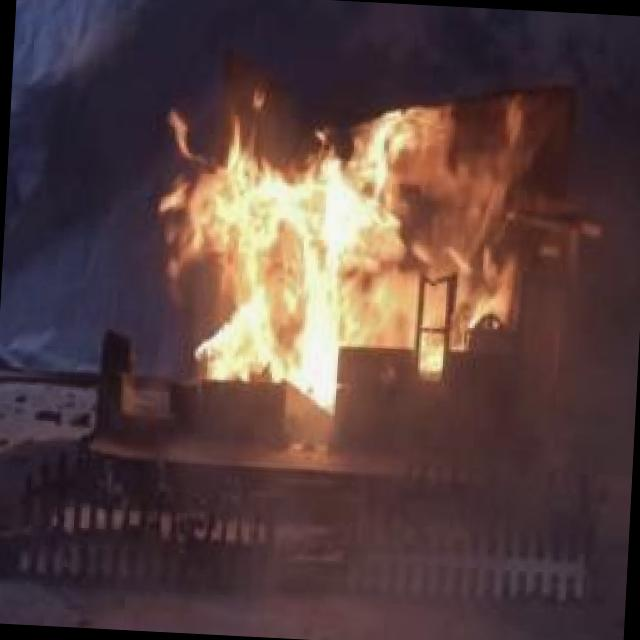fire: (152, 83, 545, 394)
